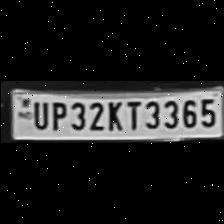2: (86, 98, 104, 132)
3: (140, 97, 160, 130), (66, 99, 86, 131), (160, 97, 178, 129)
5: (198, 96, 218, 128)
6: (179, 96, 197, 128)
K: (103, 98, 123, 132)
P: (46, 99, 66, 130)
T: (124, 99, 140, 131)
U: (29, 99, 47, 131)
